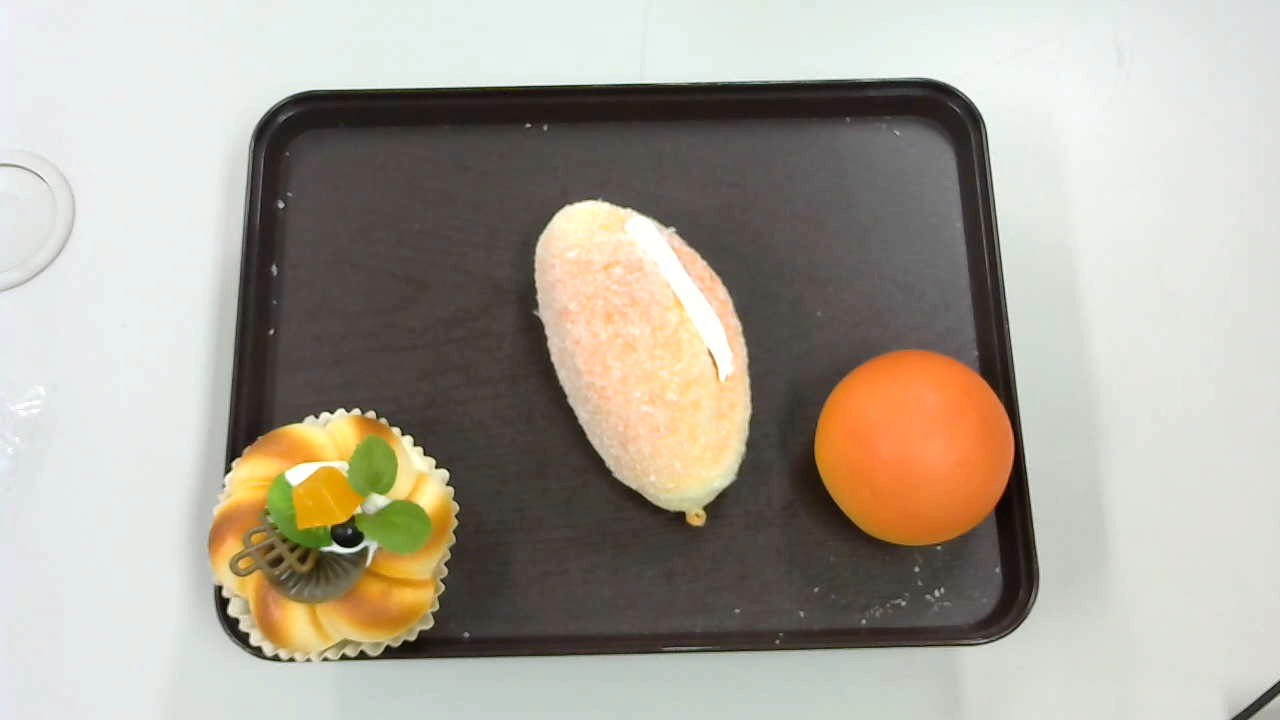bun: (814, 348, 1015, 545)
coconut: (533, 197, 752, 530)
fruit tart: (205, 407, 463, 669)
